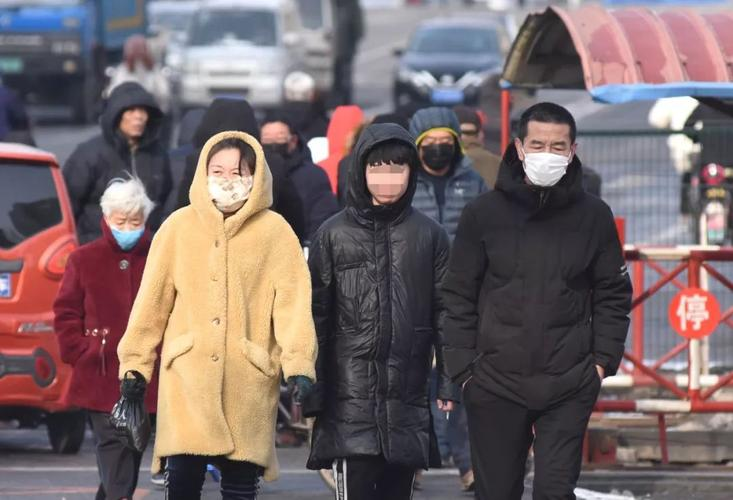mask: (522, 115, 575, 187), (205, 142, 252, 215), (109, 191, 145, 250)
